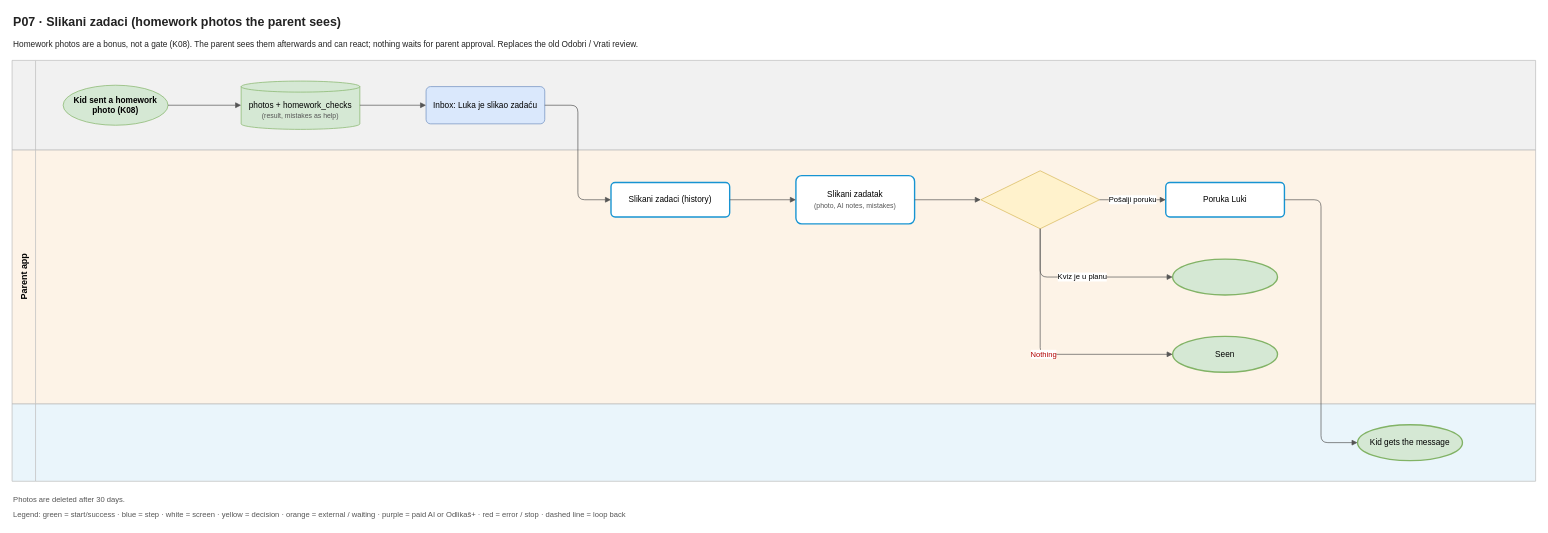
This 1548x533 diagram has some shape labels left out. Here are the shapes that lost their labels. From the top down, the box of each, then its label:
(11, 60, 1536, 150): Server
(980, 170, 1100, 229): Parent?
(1172, 258, 1278, 295): Kviz je u planu (K02)
(11, 403, 1536, 481): Kid app
